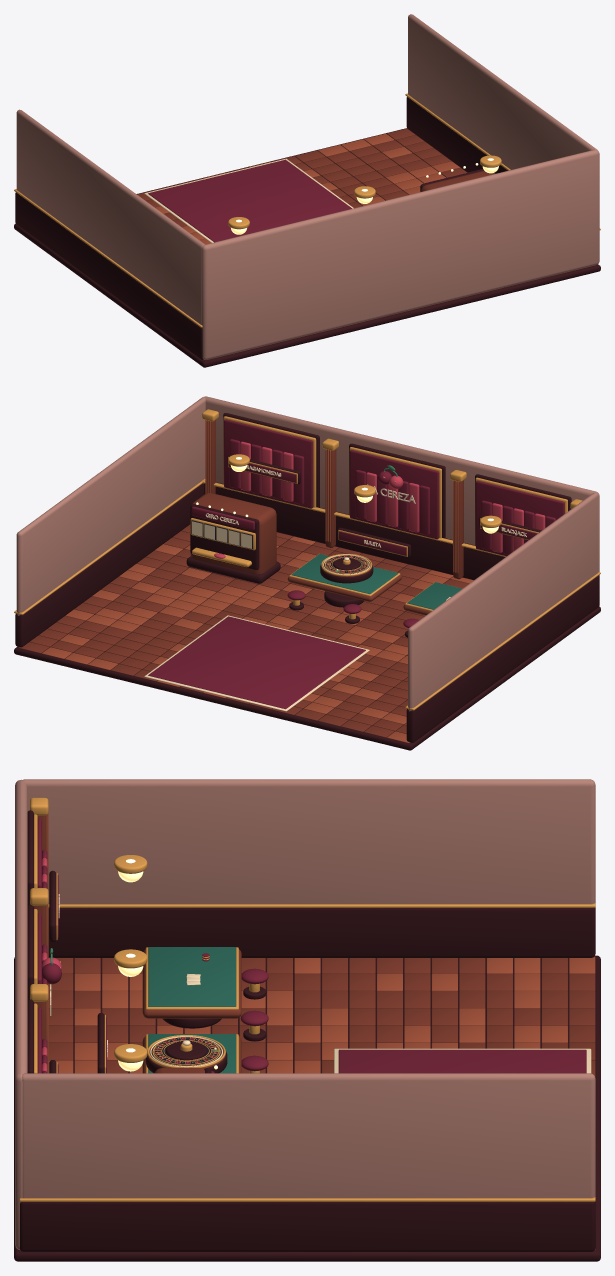
Rendered from room_casino.glb.
3 views of the same model, one above another, from view 1: azimuth 30°, elevation 25°; view 2: azimuth 150°, elevation 25°; view 3: azimuth 270°, elevation 25° (orthographic). The views are drawn at different scales.
Visible parts, largest first — view 1: Rear plaster Room, Side plaster Room, Side plaster Room.001, Entry carpet Floor, Casino parquet Floor, Walnut side panel Room, Walnut Floor, Walnut side panel Room.001, Brass side moulding Room, Velvet entry rug Floor, CasinoMachine.001; view 2: Casino parquet Floor, Side plaster Room, Side plaster Room.001, Entry carpet Floor, Rear plaster Room, Walnut side panel Room, Walnut Floor, Walnut side panel Room.001, CasinoMachine.001, Walnut rear wainscot Room, Tufted alcove backing.002, Tufted alcove backing.001 (+21 smaller); view 3: Side plaster Room.001, Side plaster Room, Casino parquet Floor, Walnut side panel Room.001, Walnut side panel Room, Walnut Floor, Blackjack table, Entry carpet Floor, Rear plaster Room, Brass side moulding Room.001, Brass side moulding Room, CasinoWheelRotor (+3 smaller).
Boxes of the visible parts, bbox=[...] form: Rear plaster Room: bbox=[201, 149, 599, 359]; Side plaster Room: bbox=[16, 109, 204, 324]; Side plaster Room.001: bbox=[408, 14, 597, 169]; Entry carpet Floor: bbox=[148, 159, 351, 242]; Casino parquet Floor: bbox=[137, 128, 594, 360]; Walnut side panel Room: bbox=[15, 192, 203, 359]; Walnut Floor: bbox=[14, 128, 600, 367]; Walnut side panel Room.001: bbox=[406, 97, 507, 173]; Brass side moulding Room: bbox=[14, 189, 202, 327]; Velvet entry rug Floor: bbox=[144, 158, 353, 242]; CasinoMachine.001: bbox=[420, 169, 494, 191]; Casino parquet Floor: bbox=[19, 524, 473, 743]; Side plaster Room: bbox=[408, 492, 598, 711]; Side plaster Room.001: bbox=[16, 397, 205, 615]; Entry carpet Floor: bbox=[148, 616, 365, 709]; Rear plaster Room: bbox=[203, 396, 599, 575]; Walnut side panel Room: bbox=[406, 575, 599, 742]; Walnut Floor: bbox=[14, 536, 600, 750]; Walnut side panel Room.001: bbox=[15, 483, 204, 647]; CasinoMachine.001: bbox=[186, 493, 280, 583]; Walnut rear wainscot Room: bbox=[204, 482, 505, 580]; Tufted alcove backing.002: bbox=[224, 419, 313, 508]; Tufted alcove backing.001: bbox=[350, 450, 439, 539]; Side plaster Room.001: bbox=[22, 1073, 595, 1201]; Side plaster Room: bbox=[22, 779, 595, 907]; Casino parquet Floor: bbox=[48, 956, 595, 1249]; Walnut side panel Room.001: bbox=[20, 1201, 595, 1251]; Walnut side panel Room: bbox=[48, 907, 595, 957]; Walnut Floor: bbox=[14, 955, 600, 1261]; Blackjack table: bbox=[142, 947, 241, 1028]; Entry carpet Floor: bbox=[338, 1049, 586, 1073]; Rear plaster Room: bbox=[15, 779, 27, 1249]; Brass side moulding Room.001: bbox=[19, 1197, 595, 1201]; Brass side moulding Room: bbox=[48, 903, 595, 907]; CasinoWheelRotor: bbox=[154, 1037, 219, 1065].
Size of the model in its own units: 16.18 by 4.68 by 13.35.
